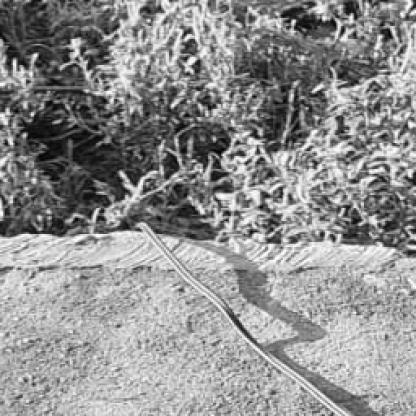cementitious_debris: (2, 3, 413, 247)
